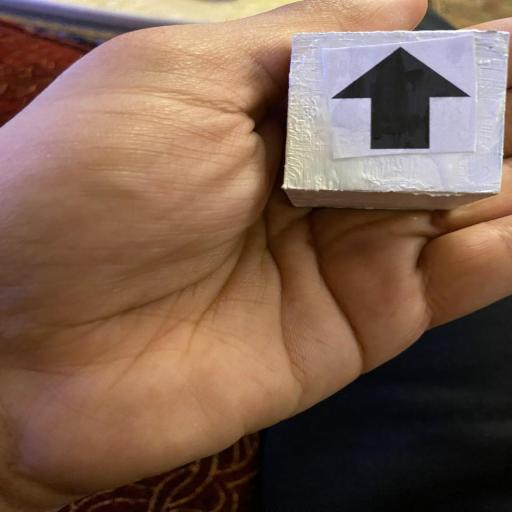Up: (275, 26, 510, 212)
